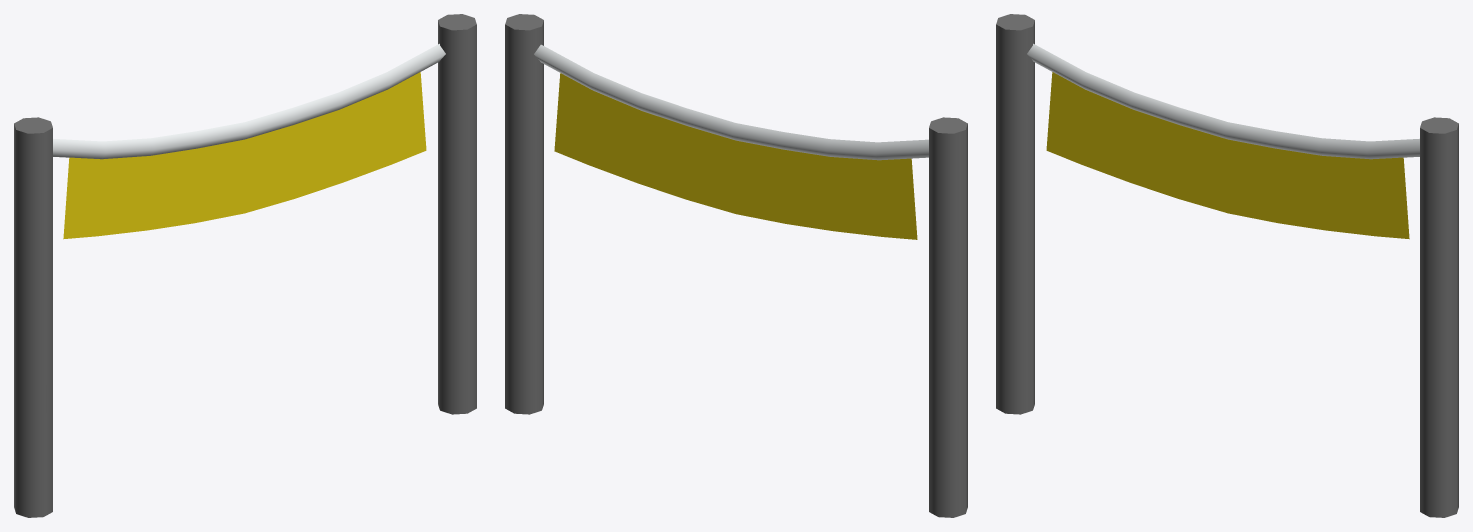
Rendered from flags01_s02.FBX.
3 renders of one model, left to right at view 1: azimuth 30°, elevation 25°; view 2: azimuth 150°, elevation 25°; view 3: azimuth 330°, elevation 25°, orthographic.
Visible parts, largest first — view 1: flags01_s02; view 2: flags01_s02; view 3: flags01_s02.
Part boxes in pixels (box(x1,y1,x2,y2)): flags01_s02: box(14, 14, 476, 517); flags01_s02: box(505, 14, 967, 517); flags01_s02: box(996, 14, 1458, 517).
Size of the model in its own units: 424 by 32.22 by 339.
Materials: 1 (1 with a texture image).
